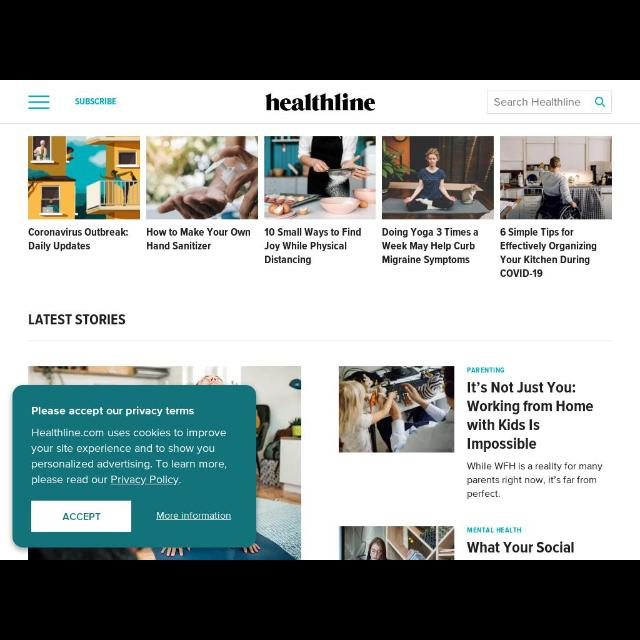button: (590, 91, 612, 113)
icon: (27, 93, 51, 111), (596, 96, 606, 108)
image: (338, 366, 454, 452), (29, 136, 141, 220), (146, 136, 258, 220), (500, 136, 612, 220), (382, 136, 493, 220), (266, 136, 376, 220), (340, 526, 454, 560), (264, 92, 376, 114)
input: (488, 90, 590, 112)
text: (31, 427, 229, 485), (468, 381, 594, 452), (466, 460, 602, 500), (500, 227, 598, 281), (380, 226, 480, 268), (264, 227, 362, 266), (146, 226, 252, 252), (29, 228, 130, 252), (31, 407, 195, 418), (466, 540, 576, 554), (27, 314, 129, 326), (494, 97, 580, 109), (156, 510, 232, 522), (74, 96, 116, 108), (466, 526, 522, 534), (61, 512, 102, 522), (466, 366, 506, 374)
textbutton: (30, 501, 132, 534)
toolbar: (1, 80, 639, 124)
